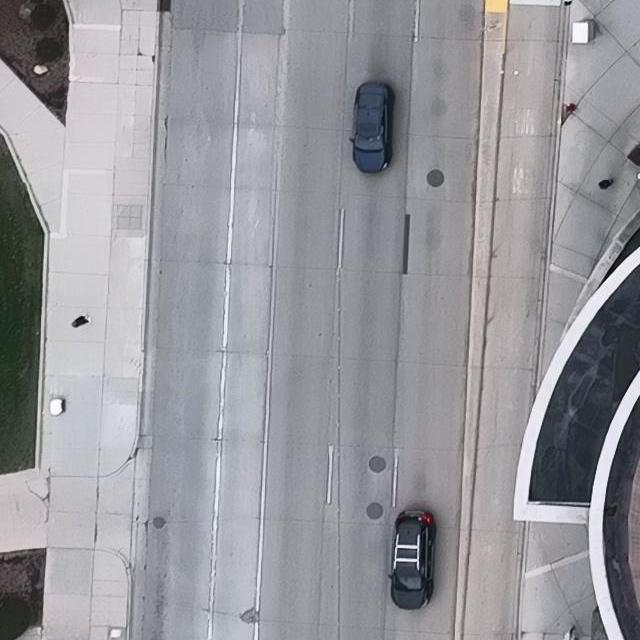car: (388, 508, 436, 610), (347, 81, 394, 174)
